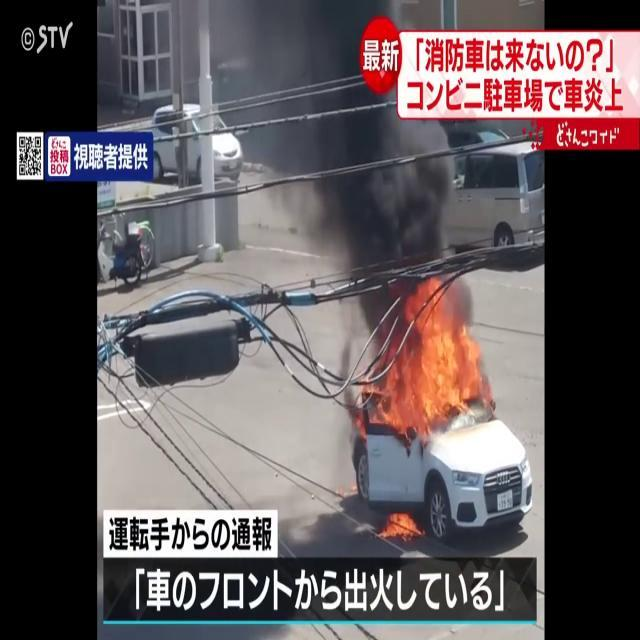Fire: (369, 282, 492, 434), (379, 508, 422, 540)
Smoke: (254, 1, 461, 332)
